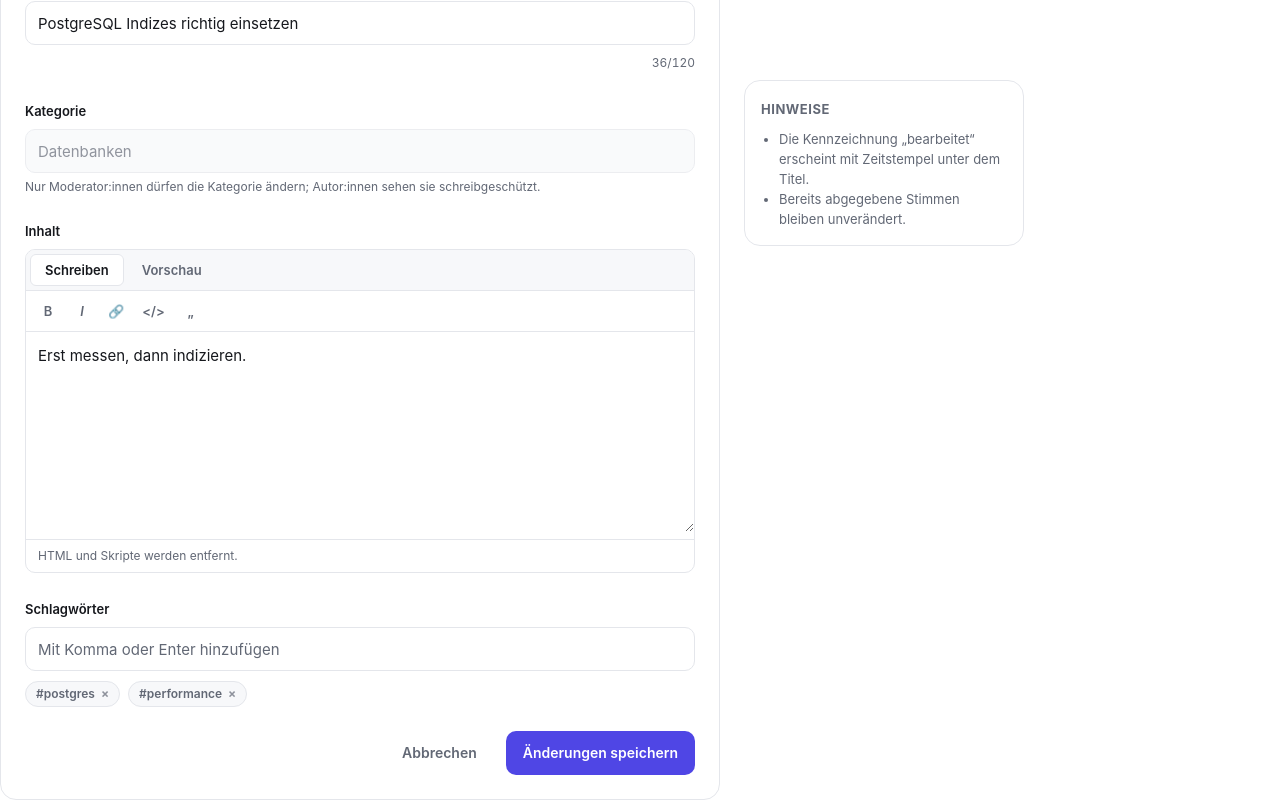
Test case: edit-thread screen › adds and removes tags as chips
(page scrolled)
Check: the field labelled "Titel" is shown, box [25,1,695,45]
Type "neu" into the field labelled "Schlagwörter". click: (360, 649)
box: [25,627,695,671]
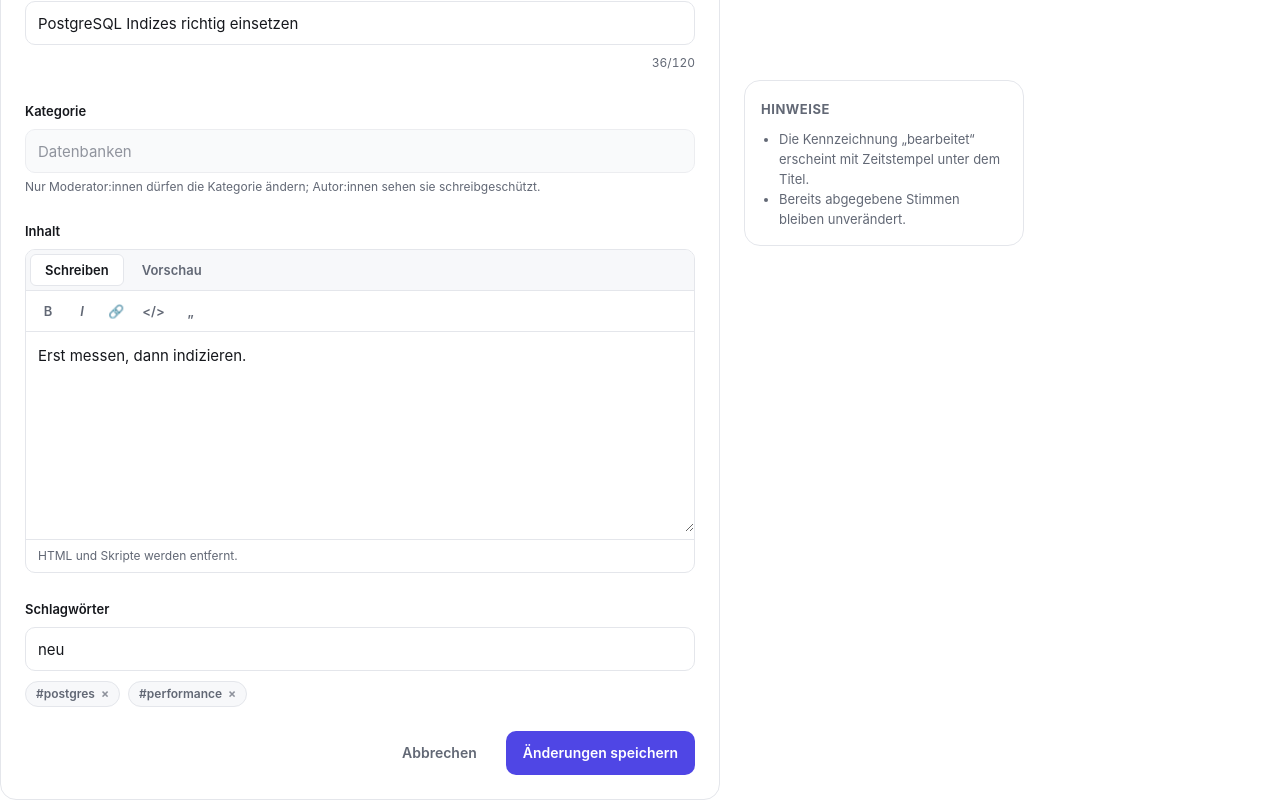
Press Enter in the field labelled "Schlagwörter", box [25,627,695,671]
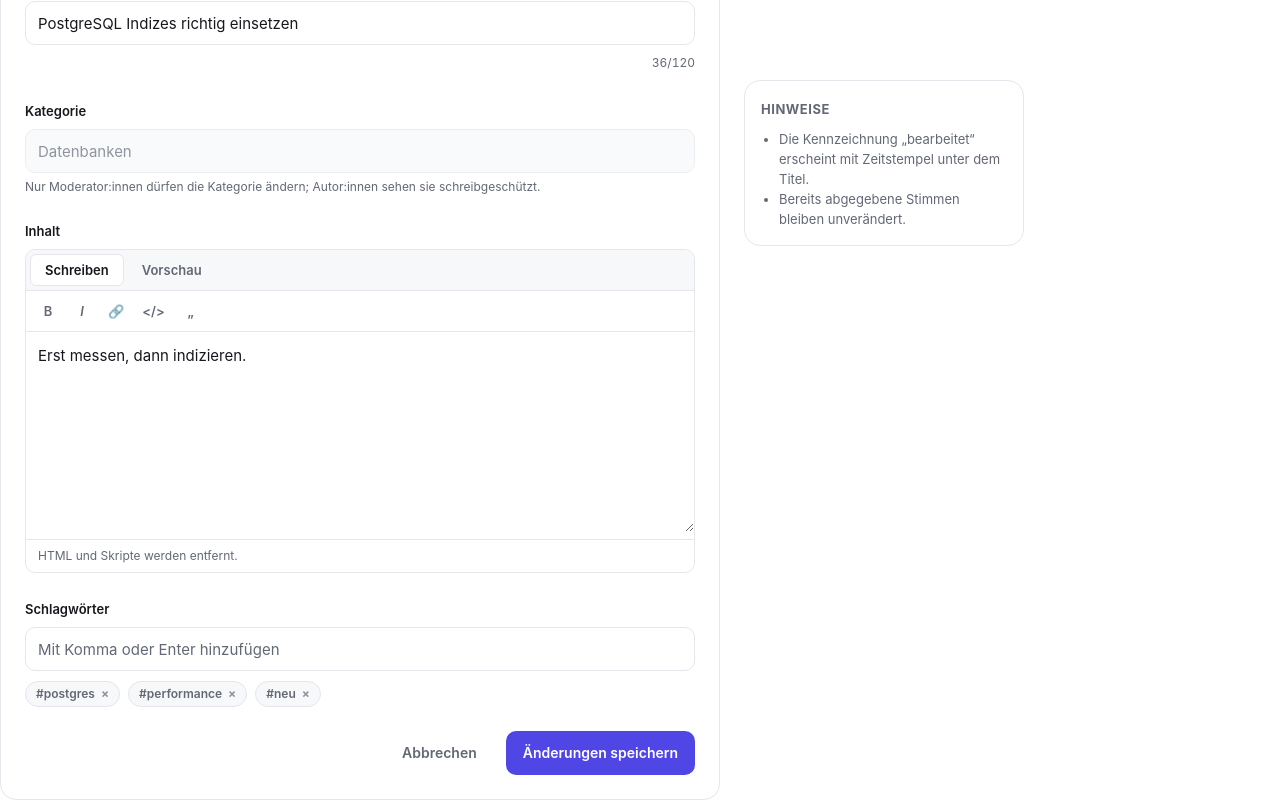
Check: the button "#neu ×" is shown
Click the button with aria-label "Schlagwort neu entfernen". click: (288, 694)
box: [255,681,321,707]
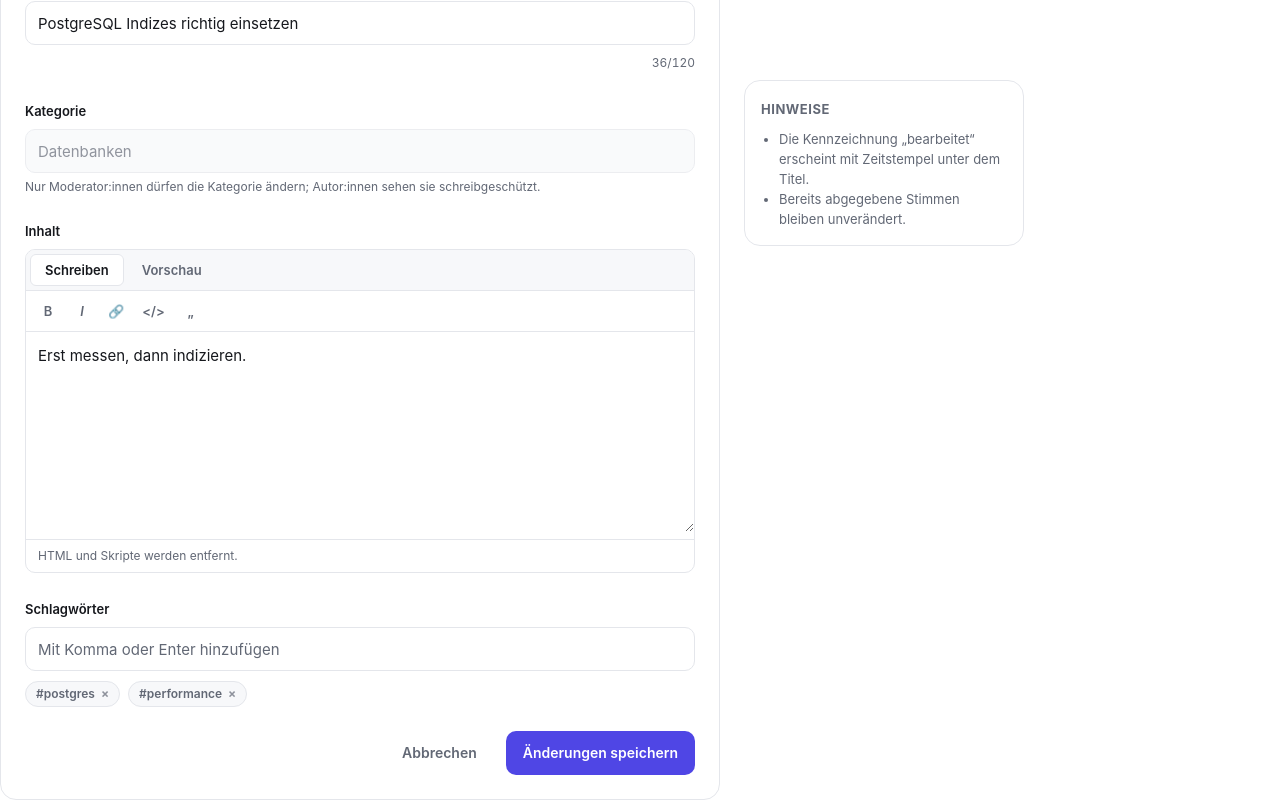
Check: the button "#neu" is gone
